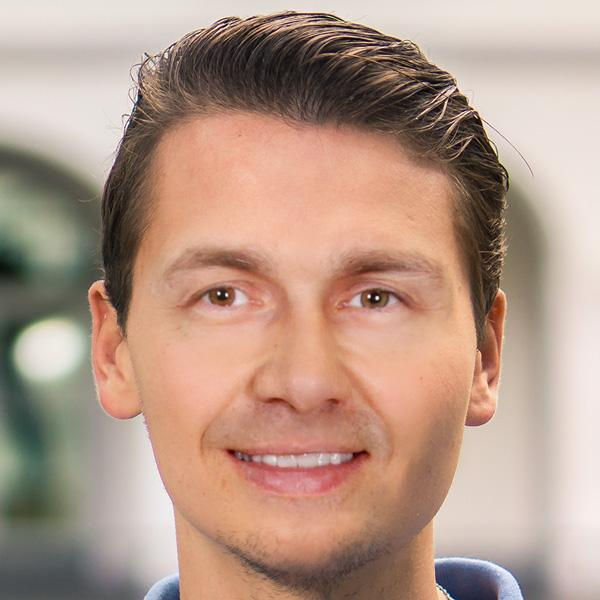Eyes: (173, 272, 273, 327), (325, 273, 422, 329)
